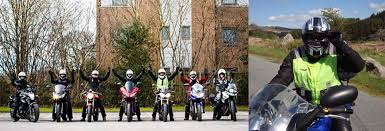helmet: (293, 10, 337, 60)
